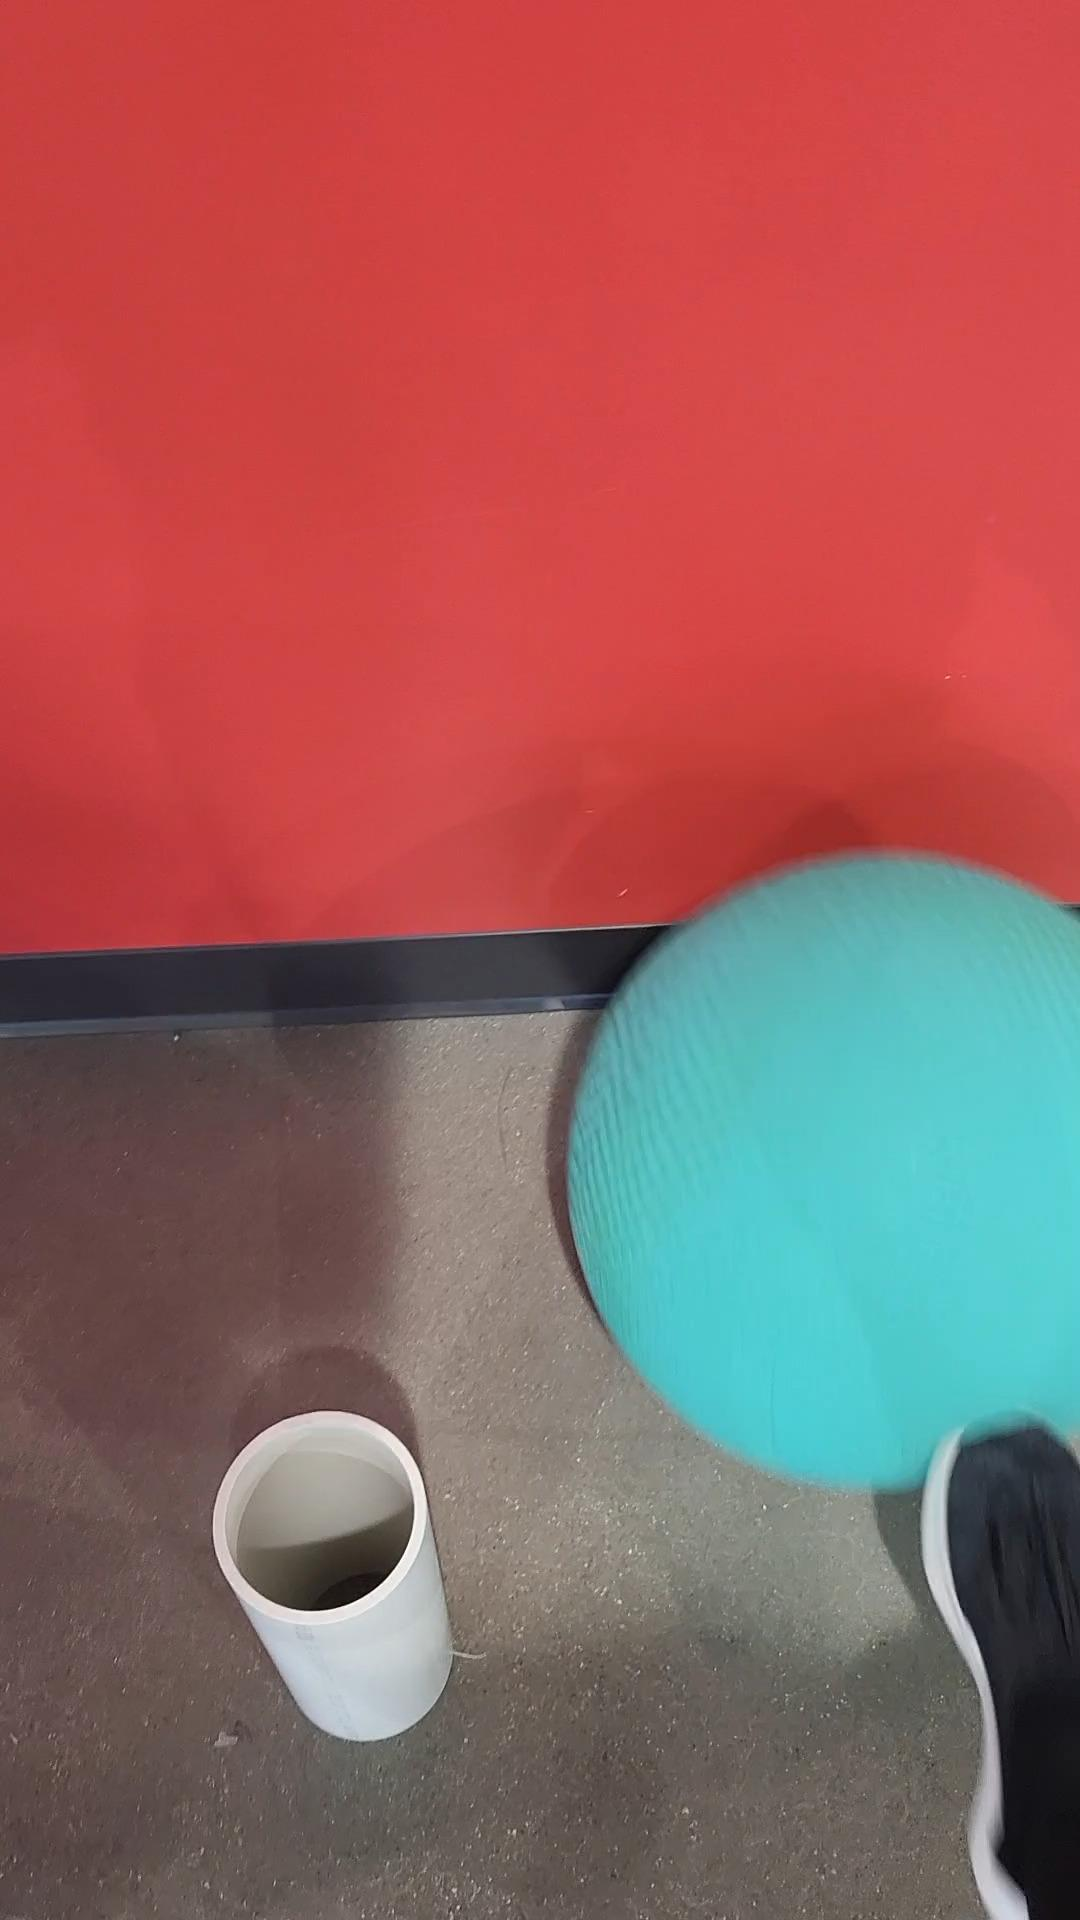algae: (562, 846, 1079, 1490)
coral: (209, 1407, 457, 1744)
